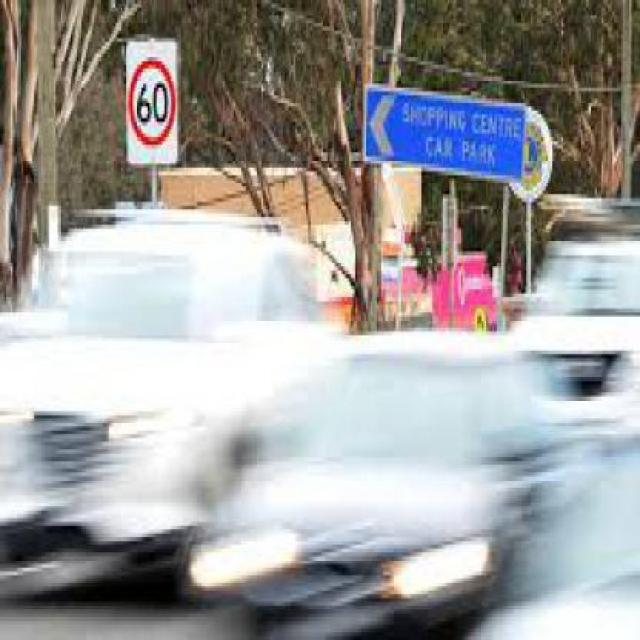Ograniczenie predkosci do 60: (126, 53, 180, 156)
